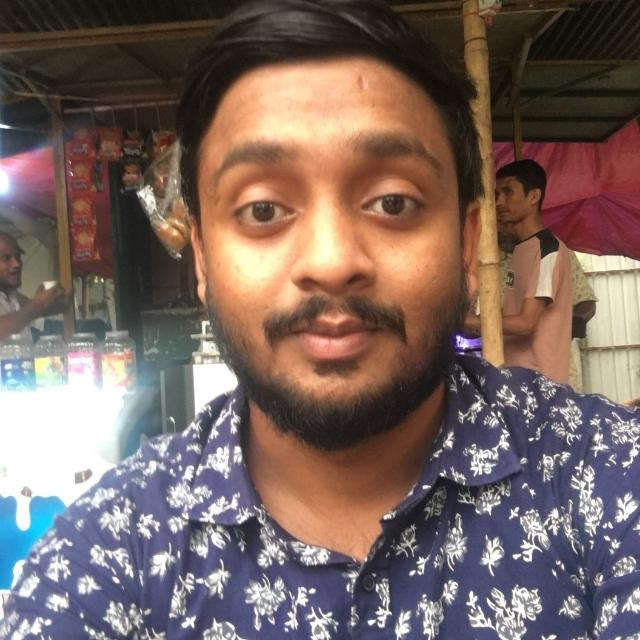Surprised: (105, 61, 513, 440)
